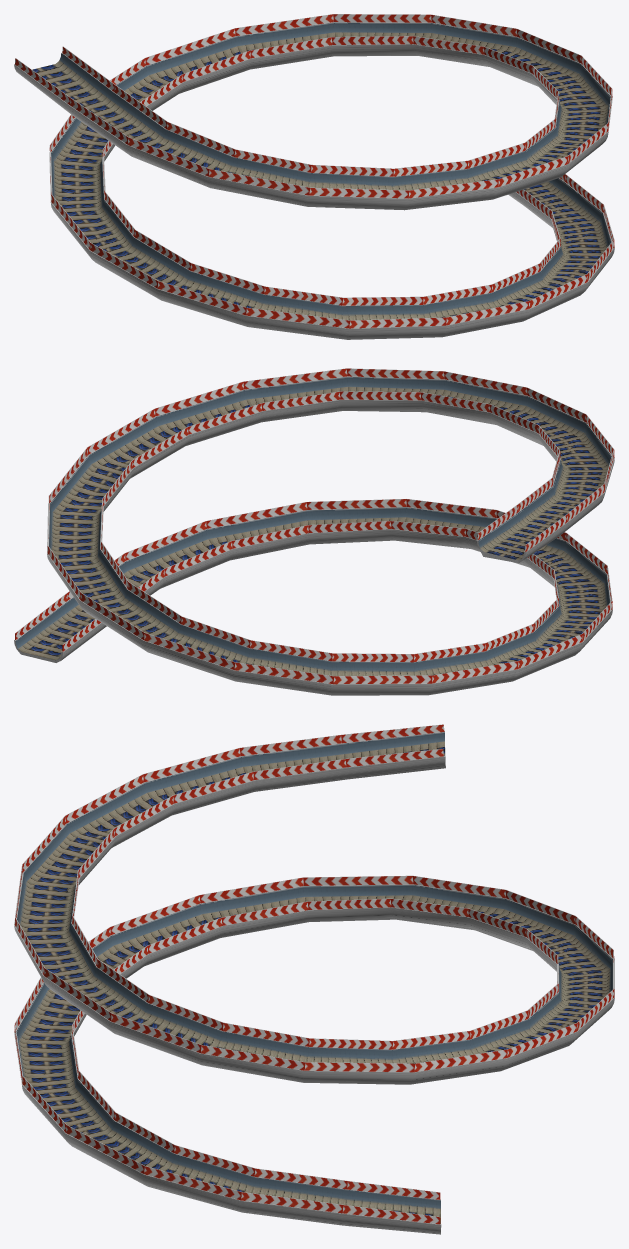
The model's file is R_Spiral.FBX.
3 views of the same model, one above another, from view 1: azimuth 30°, elevation 25°; view 2: azimuth 150°, elevation 25°; view 3: azimuth 270°, elevation 25° (orthographic). The views are drawn at different scales.
Visible parts, largest first — view 1: RSpiral_01; view 2: RSpiral_01; view 3: RSpiral_01.
Boxes of the visible parts, <box> form: RSpiral_01: <box>14,14,614,339</box>; RSpiral_01: <box>14,368,614,695</box>; RSpiral_01: <box>14,724,614,1234</box>.
Bounding box in the file's own units: 138 × 59.85 × 131.
